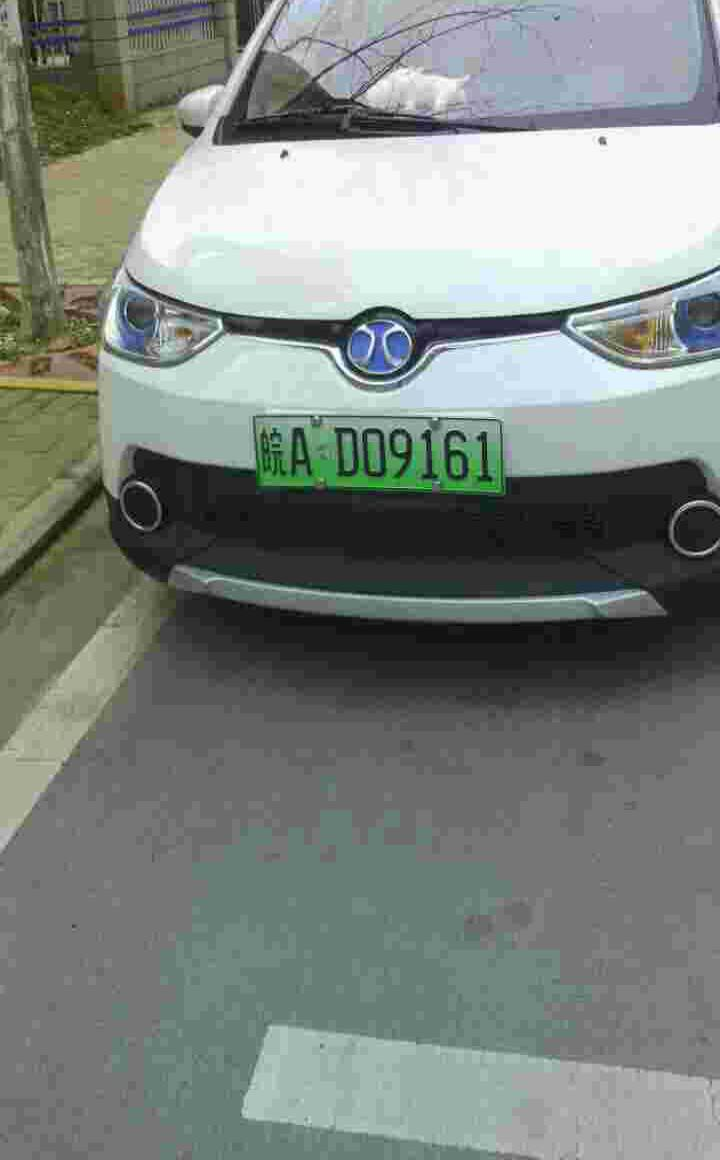car_green: (255, 413, 505, 498)
